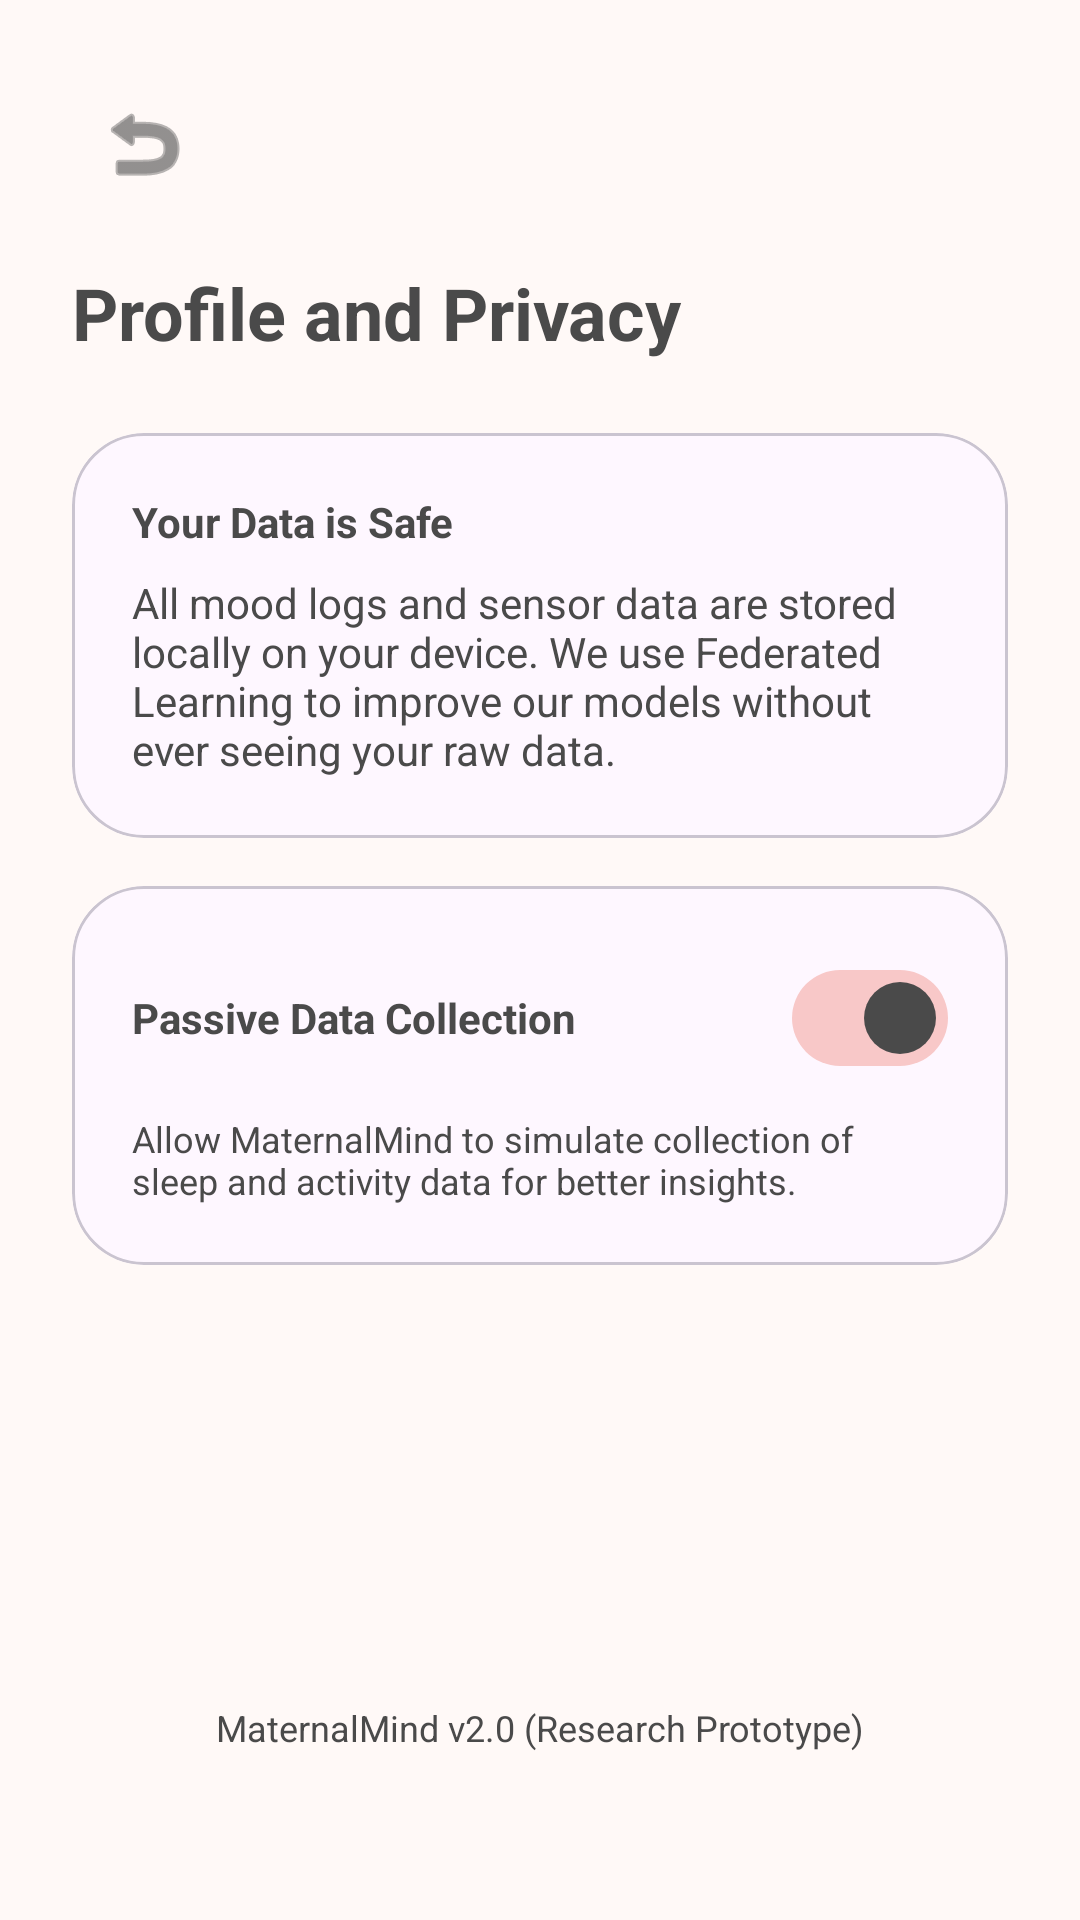

Locate icon controls on the screen. Image size 1080 × 1920, boxes as {"left": x1, "top": y1, "right": x2, "bottom": y2}.
Back: {"left": 111, "top": 113, "right": 180, "bottom": 176}
